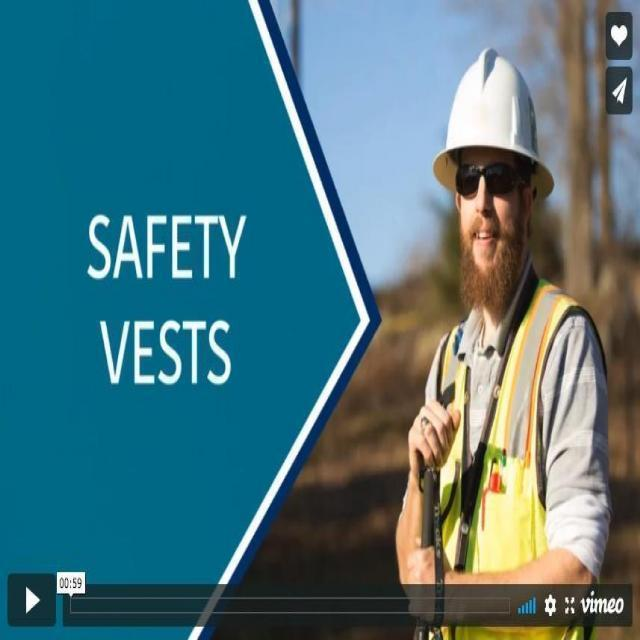helmet: (437, 46, 559, 208)
vest: (418, 280, 614, 640)
